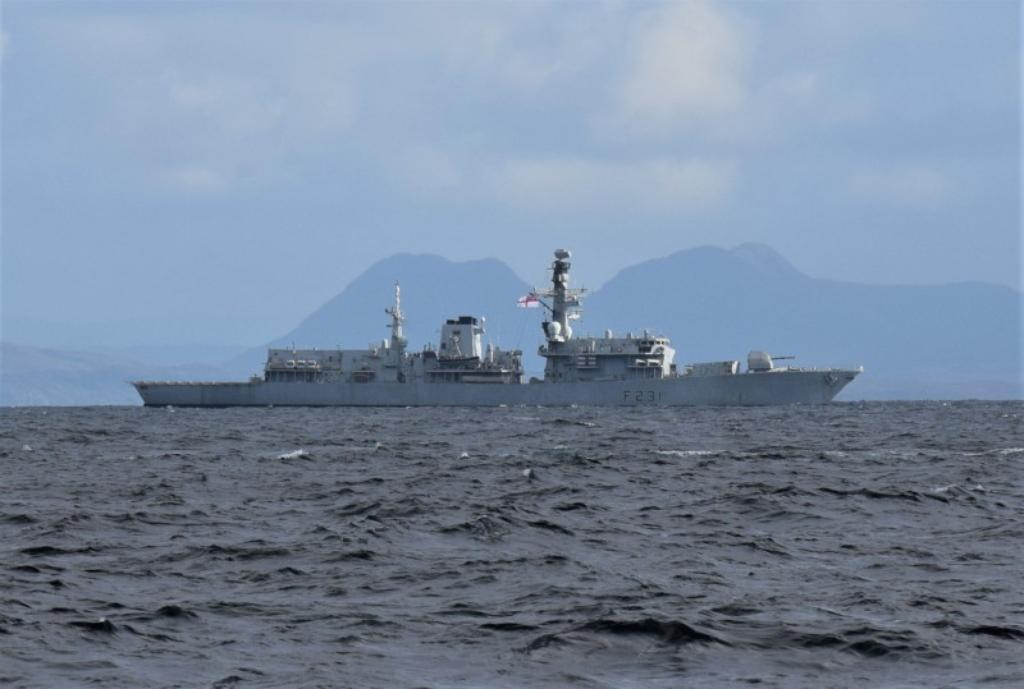Warship: (124, 240, 874, 412)
